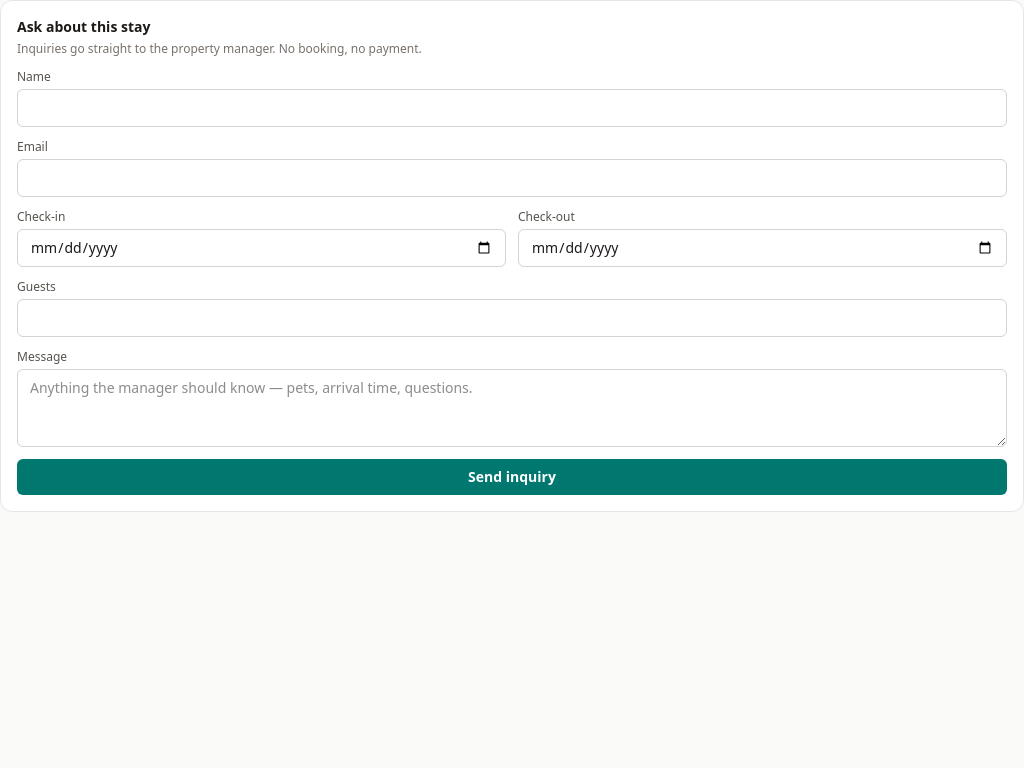
Test: InquiryForm › surfaces server-side field errors inline when the API rejects the inquiry
Type "Mason Hooten" into the field labelled "Name" at x=512, y=108, box [17,89,1007,127]
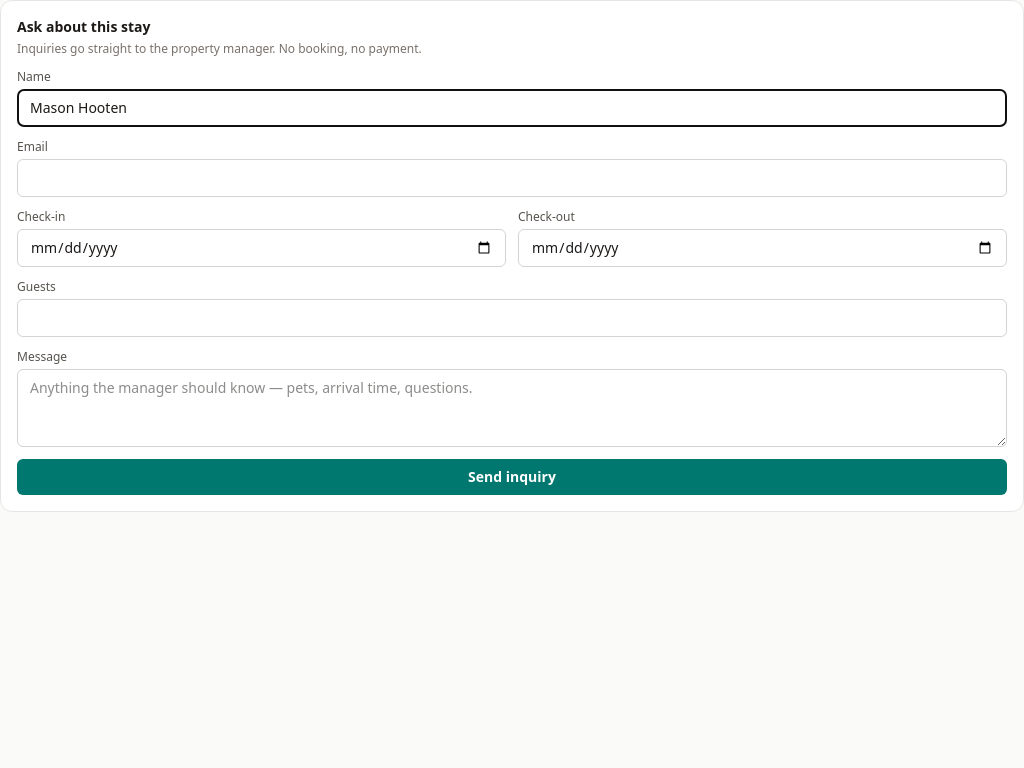
Type "mason@example.com" into the field labelled "Email" at x=512, y=178, box [17,159,1007,197]
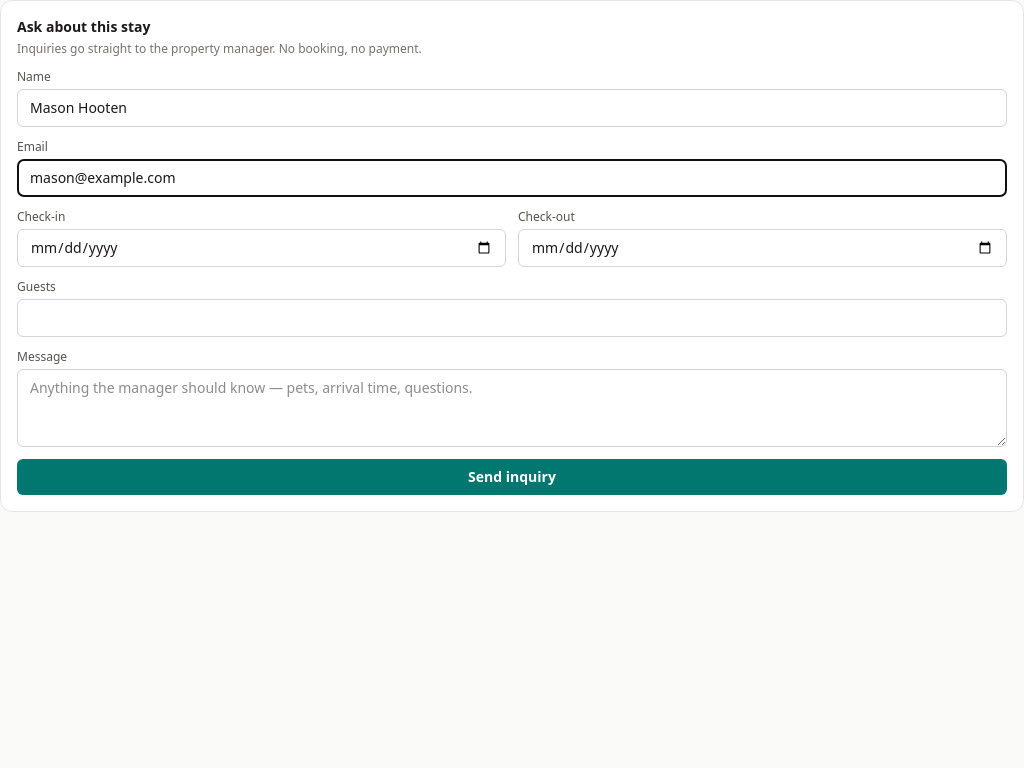
Click the button "Send inquiry" at x=512, y=477, box [17,459,1007,495]
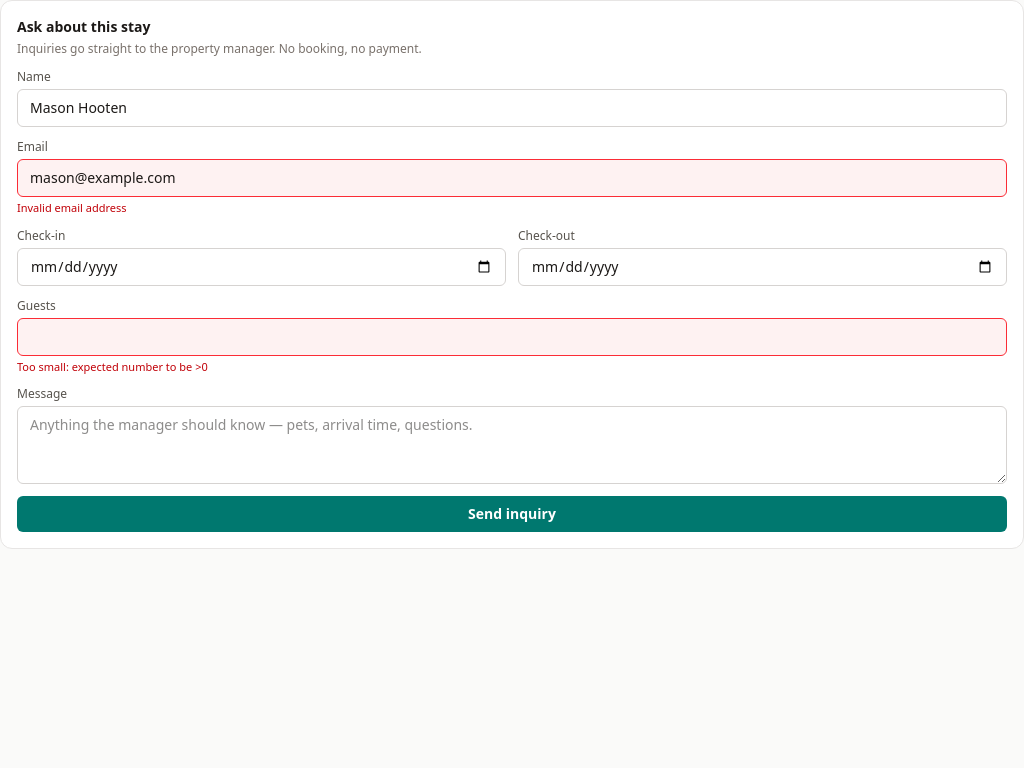
Check: the text "Invalid email address" is shown, box [17,200,127,215]
Check: the text "Too small: expected number to be >0" is shown, box [17,359,208,374]
